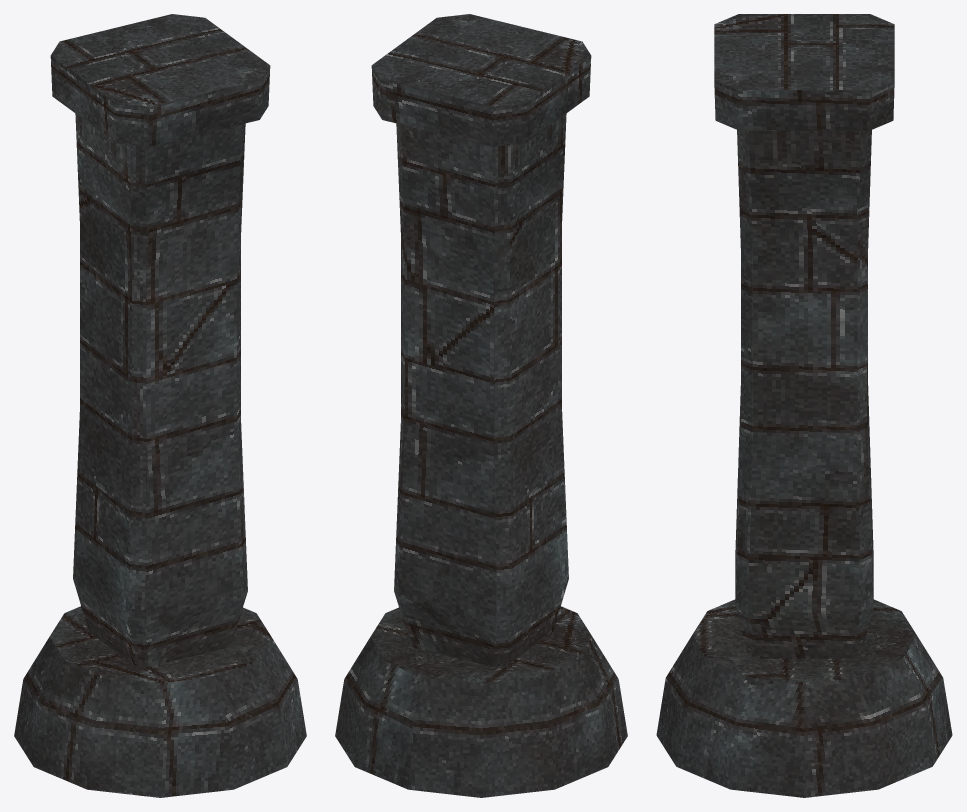
Rendered from Obelisk_2.gltf.
The picture shows the model from 3 angles, left to right: view 1: azimuth 30°, elevation 25°; view 2: azimuth 150°, elevation 25°; view 3: azimuth 270°, elevation 25°; orthographic projection.
Parts seen in each view (by area): view 1: Obelisk_2; view 2: Obelisk_2; view 3: Obelisk_2.
Part boxes in pixels (x1,y1,x2,y2): Obelisk_2: [14, 14, 306, 797]; Obelisk_2: [335, 14, 627, 797]; Obelisk_2: [656, 14, 952, 797].
Size of the model in its own units: 2.57 by 6.56 by 2.57.
1 material, 1 textured.
